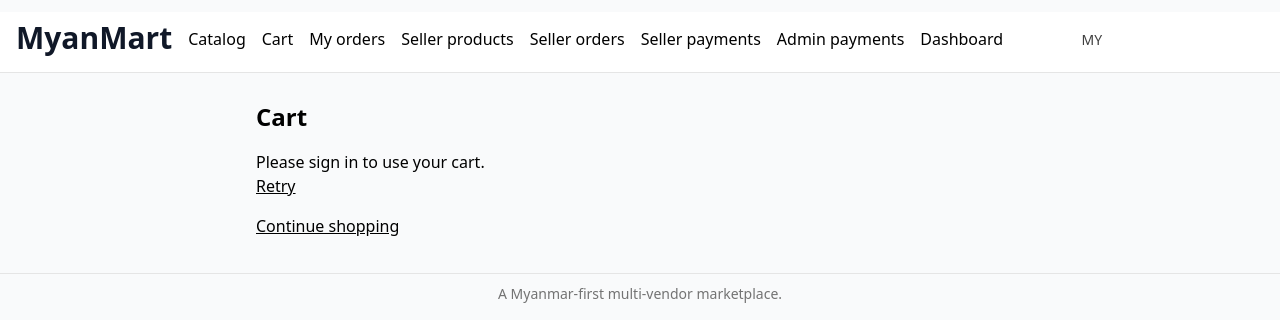
shopping cart UI › shows authentication errors and supports retry
Expected: the message shows "Please sign in", top-left (256, 147), bottom-right (485, 182)
Step 1. Click the button "Retry" → [276, 189], box top-left (256, 177), bottom-right (296, 201)
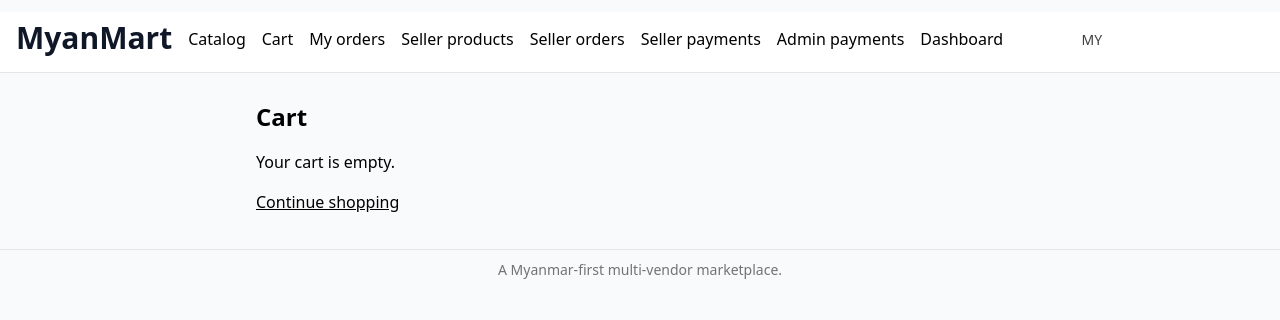
Expected: the text "Your cart is empty." is shown, top-left (256, 147), bottom-right (395, 182)
